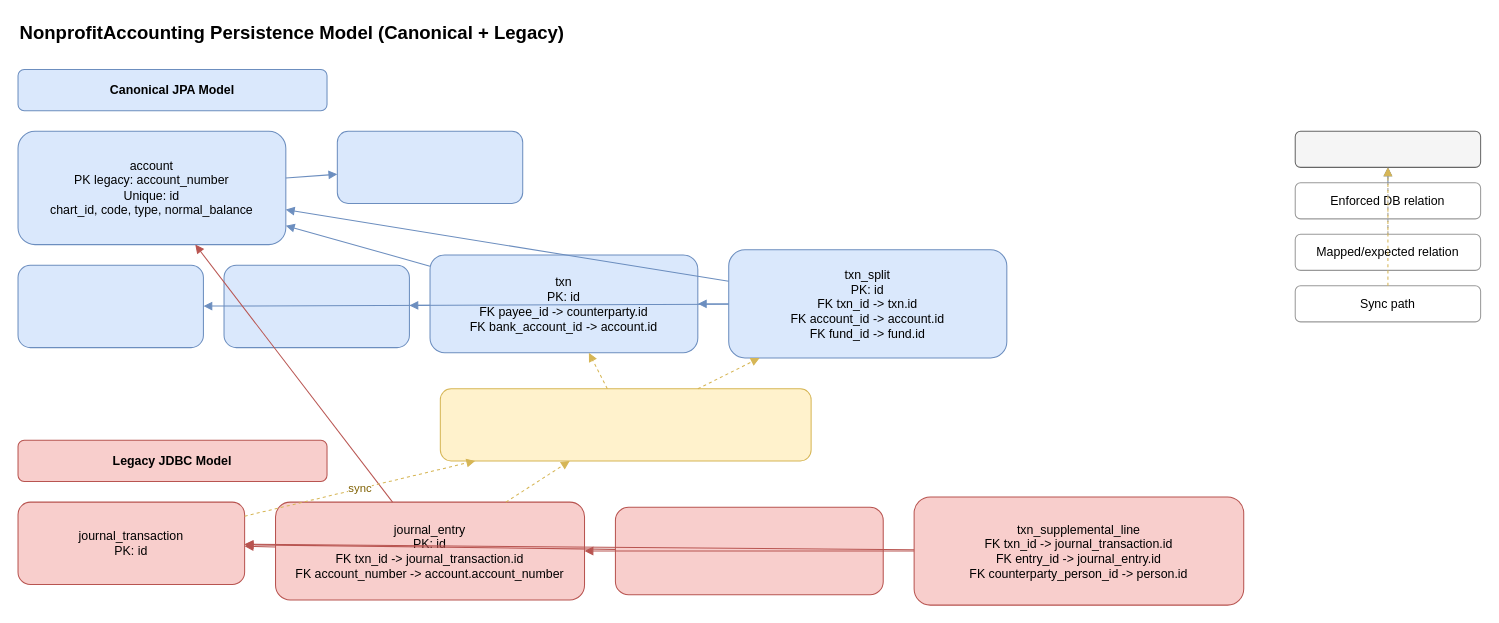
Some shapes in this 1499 by 623 pixel diagram are drawn without their labels. Here are the shapes that lost their labels. From the top down, the centre of each, then its label:
At (x=429, y=166): "chart_of_accounts PK: id".
At (x=1387, y=148): "Legend".
At (x=110, y=306): "fund PK: id Unique: code".
At (x=316, y=306): "counterparty PK: id".
At (x=625, y=424): "CanonicalJournalSyncAdapter syncs legacy journal_* -> txn/txn_split".
At (x=748, y=550): "transaction_info PK: (txn_id, k) FK txn_id -> journal_transaction.id".
